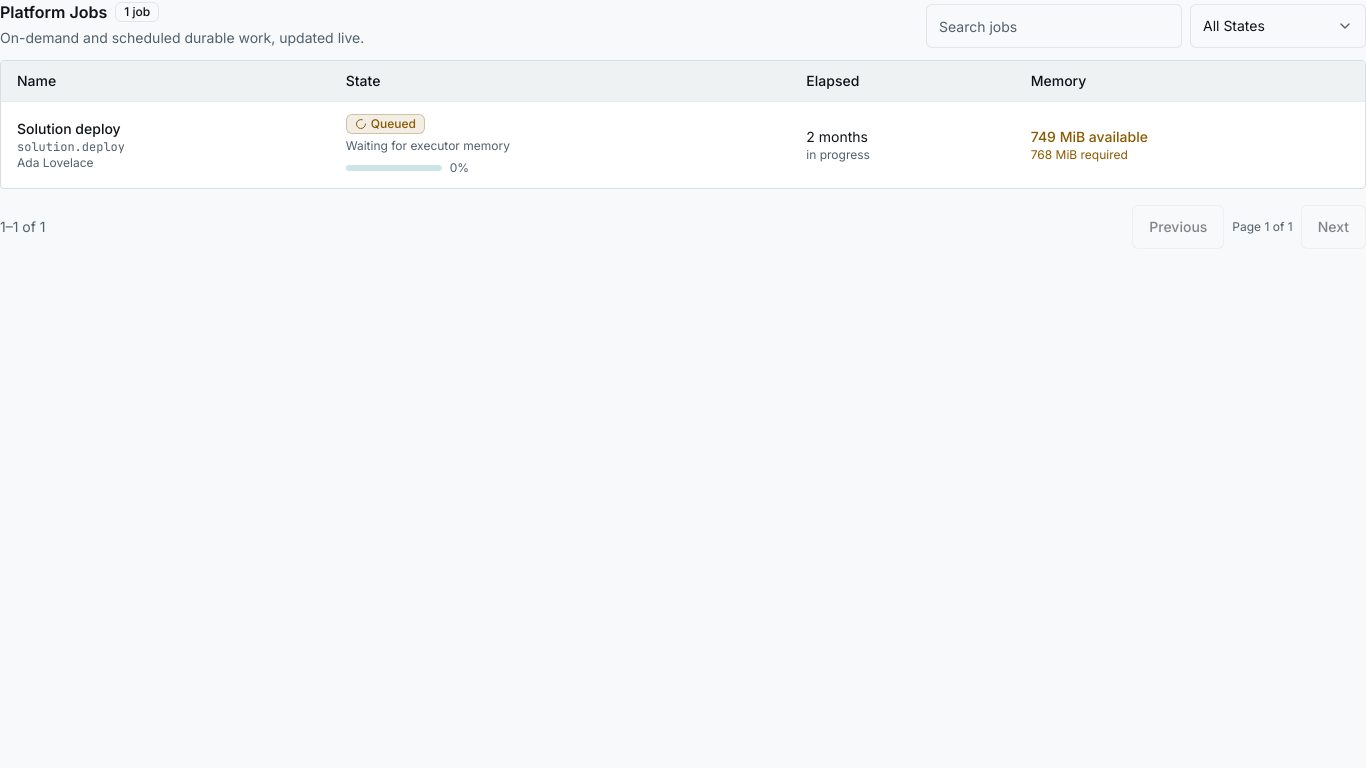
Test: PlatformJobsPanel › shows on-demand jobs with an explainable memory wait and details
Expected: the column headings read "Name", "State", "Elapsed", "Memory", in this order, [1, 61, 330, 101]; [330, 61, 790, 101]; [790, 61, 1015, 101]; [1015, 61, 1365, 101]
Expected: the column heading "Attempts" is not shown
Click the row named "View Solution deploy platform job": (69,128) [1, 101, 1365, 188]
(page scrolled)
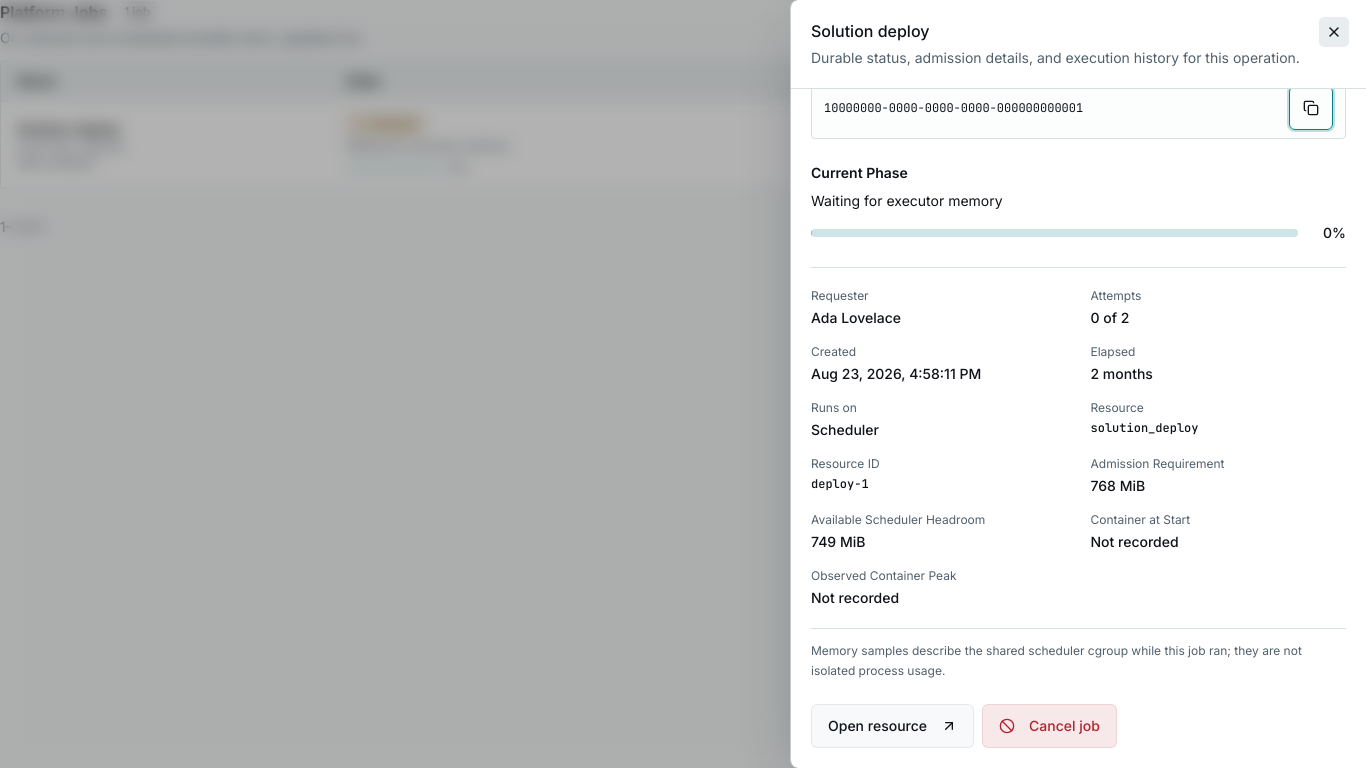
Result: the text "Ada Lovelace" is shown at [811, 309, 901, 326]
Result: the text "768 MiB" is shown at [1090, 477, 1145, 494]
